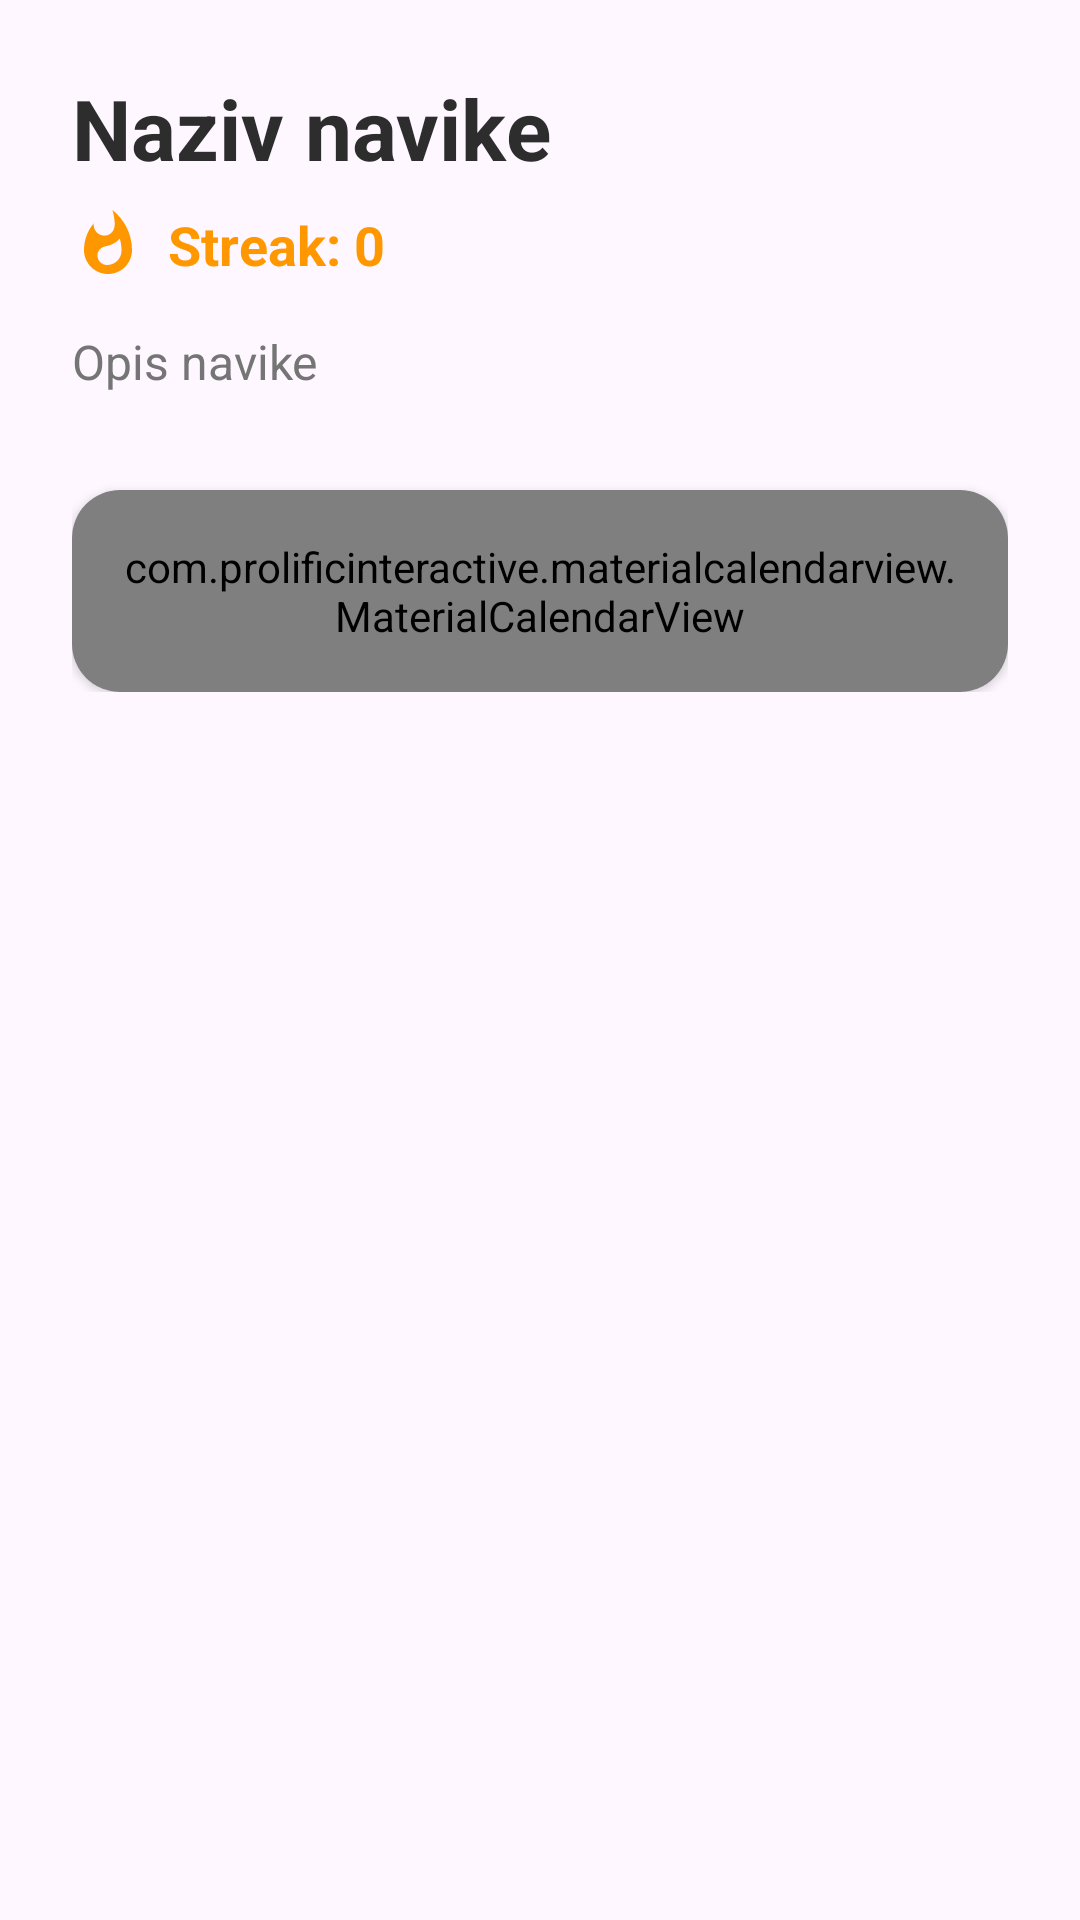

Icon click points for this 1080*1920 phone screenshot, format [x,y]:
fire: [108,242]
